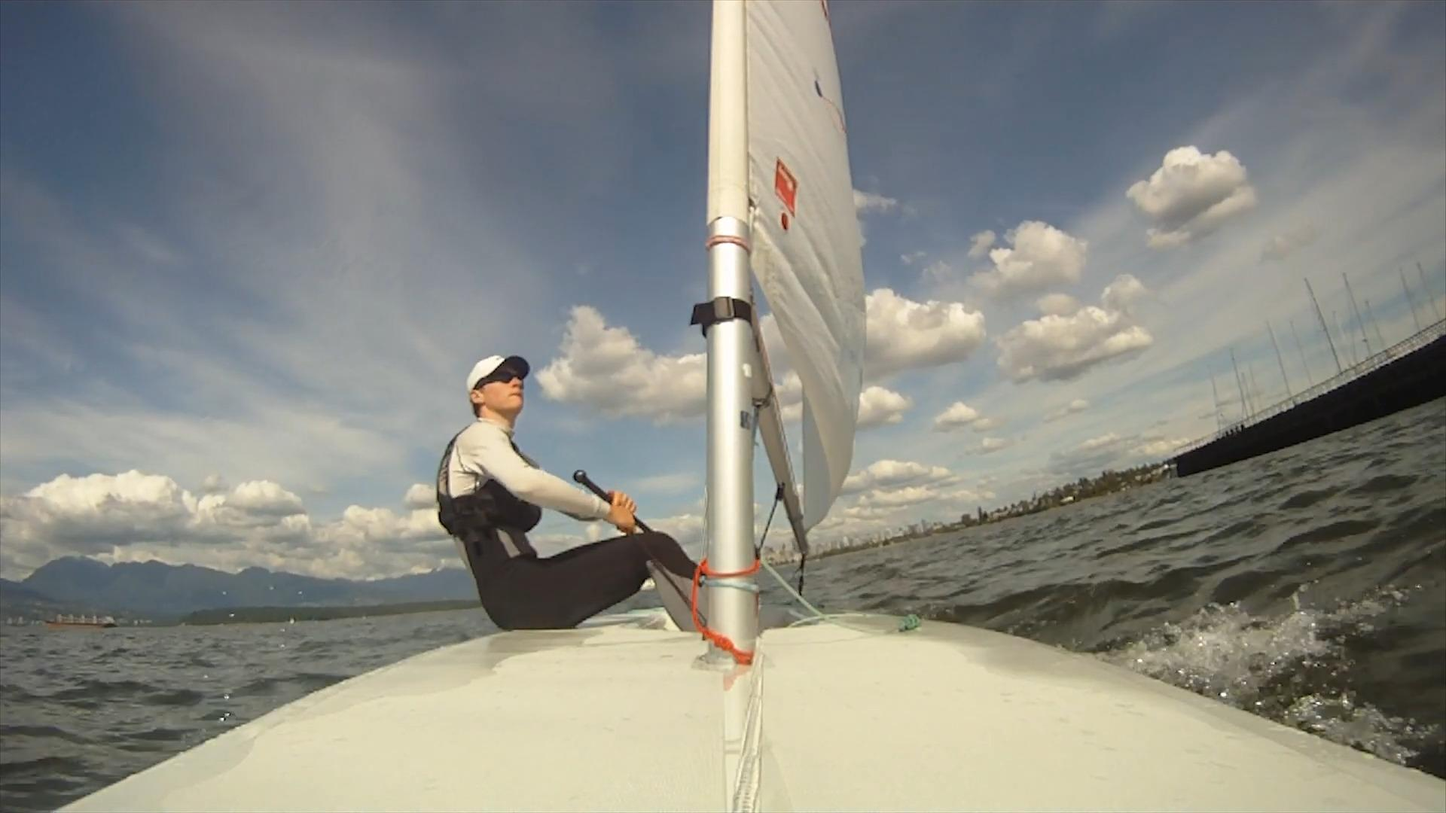boat: (53, 0, 1446, 813)
land: (811, 334, 1446, 556), (0, 559, 477, 624)
person: (438, 356, 697, 632)
sea: (801, 397, 1446, 780), (0, 608, 497, 813), (757, 566, 810, 614), (594, 588, 660, 618)
sky: (0, 0, 719, 584), (813, 0, 1446, 550), (533, 513, 618, 561)
